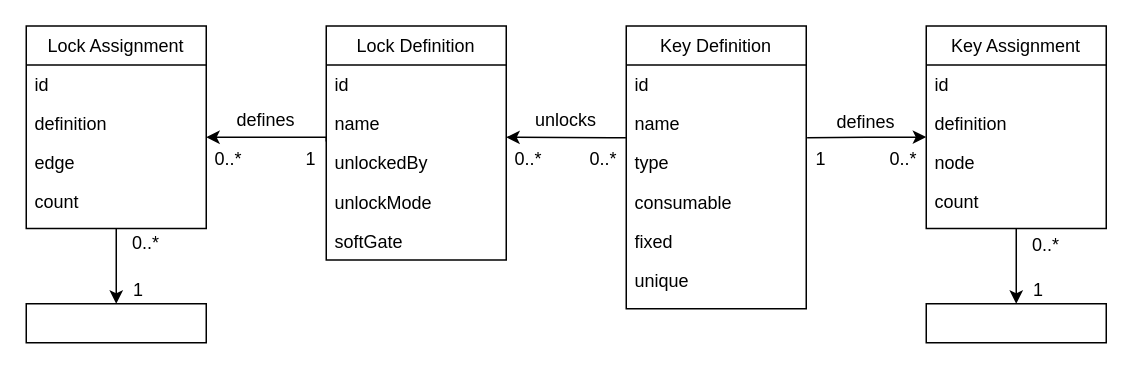
The diagram is 1133 pixels wide and 371 high, and some of its shapes have lost their labels. The shapes that lost their labels are listed below. From the top down, each one's centre as x and y in pixels, then its label:
(115,322): PxChartEdge
(1015,322): PxNode
